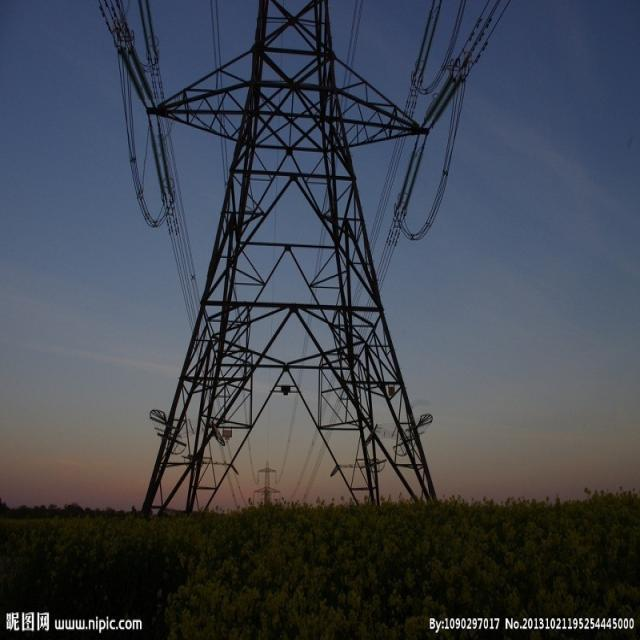non-critical vegetation: (95, 15, 501, 508)
